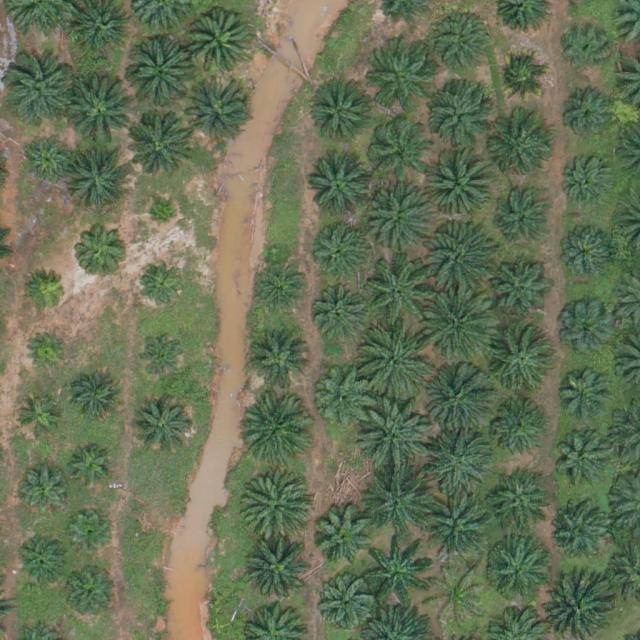Dead: (428, 562, 490, 625)
Healthy: (240, 469, 311, 540), (426, 290, 497, 361), (426, 221, 497, 292), (425, 147, 496, 218), (426, 75, 497, 146), (6, 56, 77, 127), (424, 426, 494, 497), (424, 497, 494, 568), (362, 535, 432, 606), (358, 402, 428, 473), (245, 538, 315, 609), (243, 392, 313, 463), (486, 112, 556, 183), (487, 331, 557, 402), (429, 362, 499, 433), (366, 256, 436, 327), (182, 75, 252, 146), (122, 111, 192, 182), (64, 75, 134, 146), (365, 464, 435, 534), (362, 185, 432, 255), (363, 328, 433, 398), (184, 8, 254, 78), (124, 38, 194, 108), (67, 144, 137, 214), (547, 502, 610, 565), (555, 299, 618, 362), (364, 49, 427, 112), (309, 215, 372, 278), (309, 158, 372, 221), (489, 475, 551, 538), (484, 539, 547, 601), (314, 573, 376, 636), (131, 396, 193, 459), (488, 261, 550, 324), (368, 119, 430, 182), (313, 79, 375, 142), (248, 328, 310, 391), (312, 506, 374, 568), (556, 223, 618, 285), (431, 8, 493, 70), (314, 367, 376, 429), (311, 279, 373, 341), (137, 329, 192, 385), (554, 431, 609, 486), (490, 403, 545, 458), (17, 462, 72, 517), (61, 566, 116, 621), (21, 135, 76, 190), (556, 367, 611, 422), (560, 21, 615, 76), (561, 91, 616, 146), (561, 157, 616, 212), (135, 256, 190, 311), (252, 258, 307, 313), (74, 221, 129, 276), (71, 370, 126, 425), (16, 534, 70, 589), (495, 51, 549, 106), (493, 189, 547, 244)
Small: (24, 269, 71, 316), (15, 394, 62, 441), (70, 446, 117, 493), (68, 512, 115, 559), (24, 329, 71, 376), (148, 203, 179, 234)
